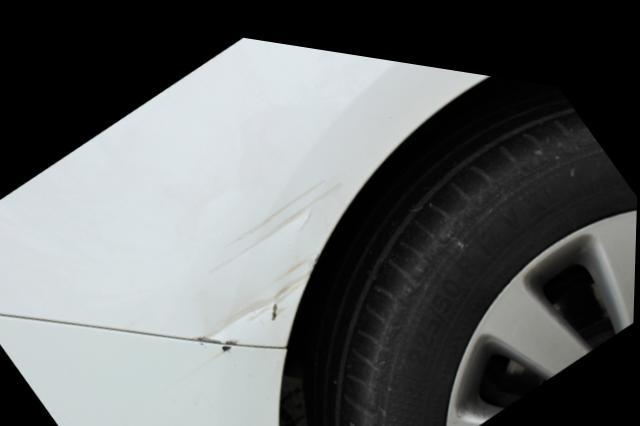scratch: (192, 161, 346, 338)
